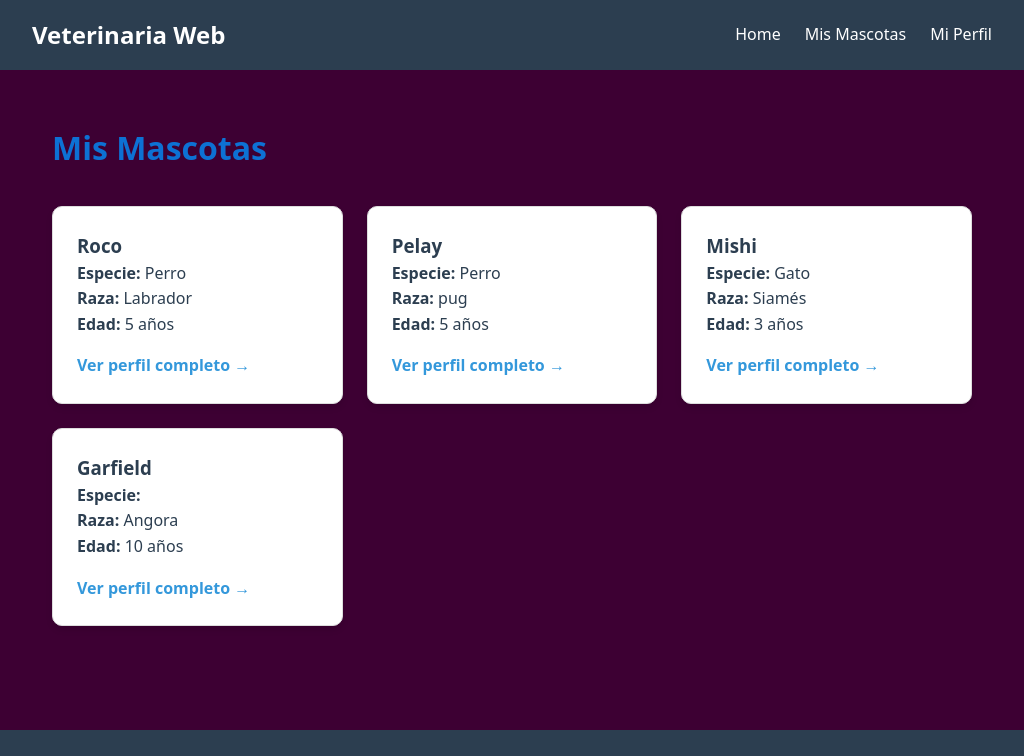
Scenario: Pet List Page - Veterinaria App › should navigate to pet profile when clicking pet details link
This screenshot has width=1024, height=756.
Click the link "Ver perfil completo →" below "Labrador" at (164, 366), box [77,353,250,379]
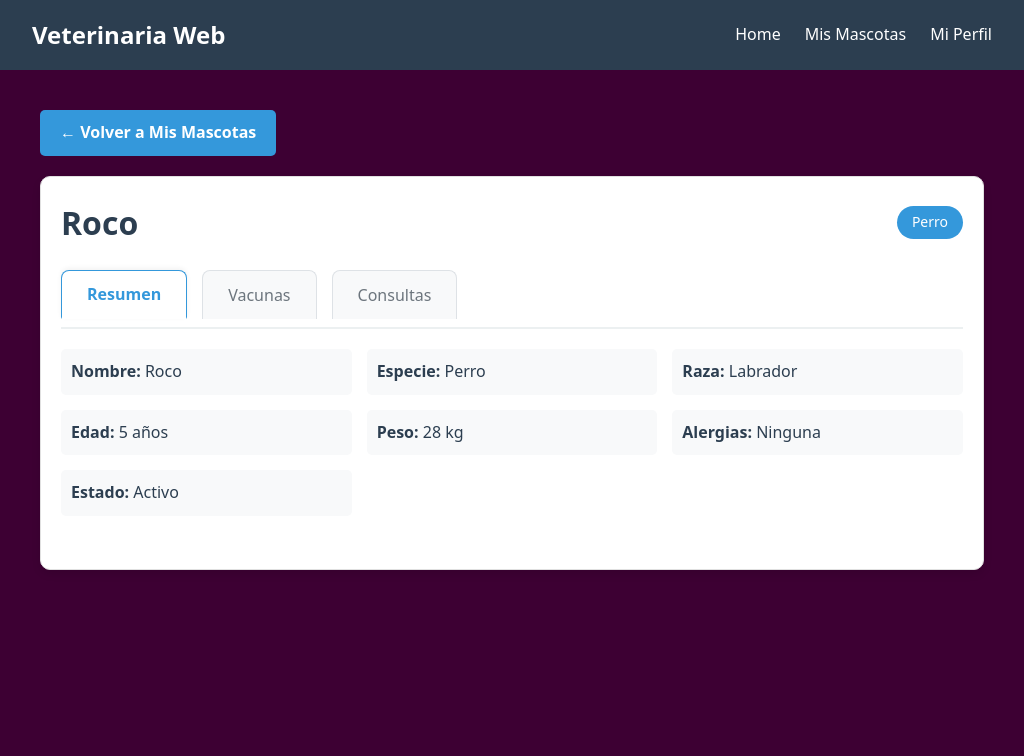
Result: the link "← Volver a Mis Mascotas" is shown at [40,110,276,156]
